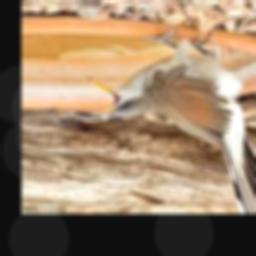Cuckoo: (86, 30, 256, 213)
